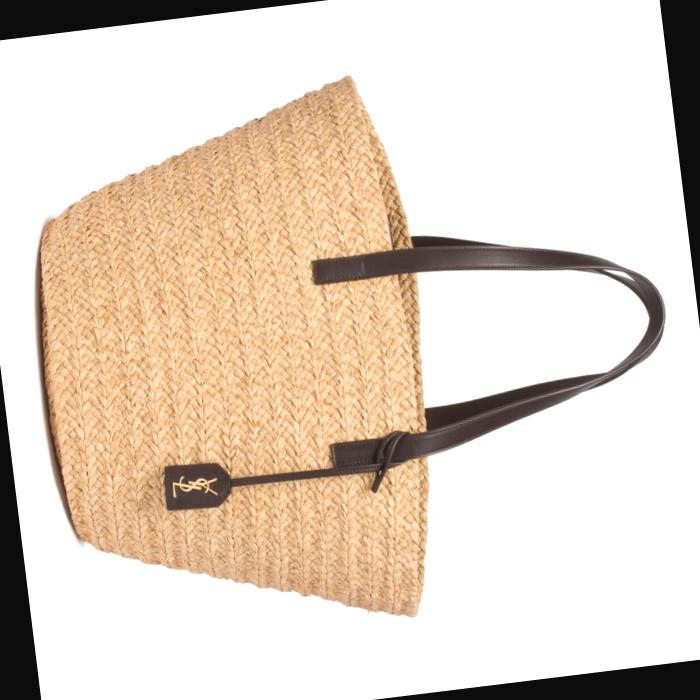YVES-SAINT-LAURENT: (170, 472, 218, 501)
